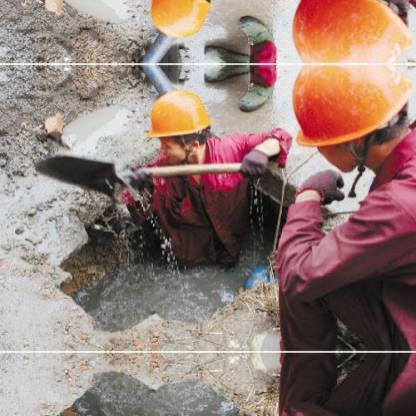helmet: (279, 64, 406, 171), (278, 0, 406, 63), (139, 84, 215, 168), (139, 0, 216, 43)
person: (271, 65, 414, 350), (101, 87, 285, 270), (270, 0, 414, 62), (270, 353, 414, 414), (101, 0, 286, 40)
